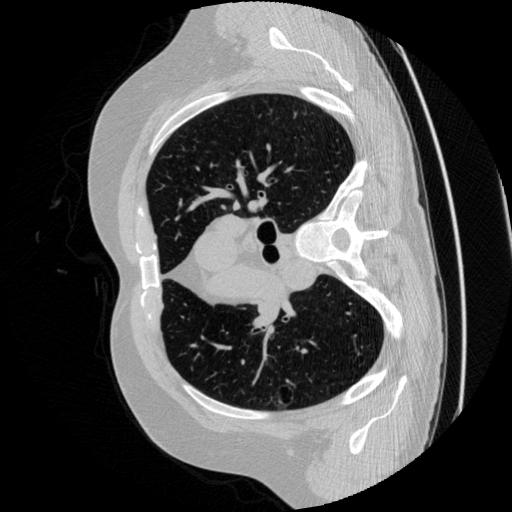nodule: (268, 381, 298, 411)
